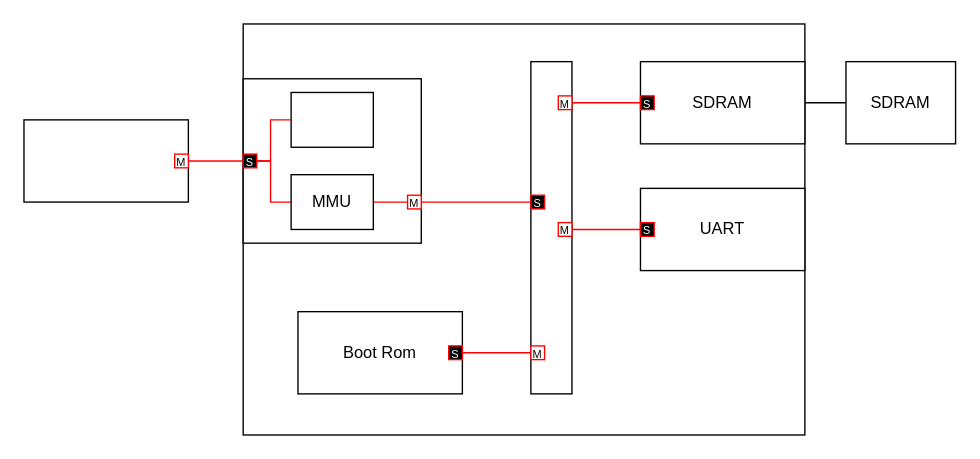
The diagram is 980 pixels wide and 459 high, and some of its shapes have lost their labels. Each missing label, with the box of its shape:
65C02: (23, 119, 188, 202)
Control Registers: (290, 91, 373, 147)
